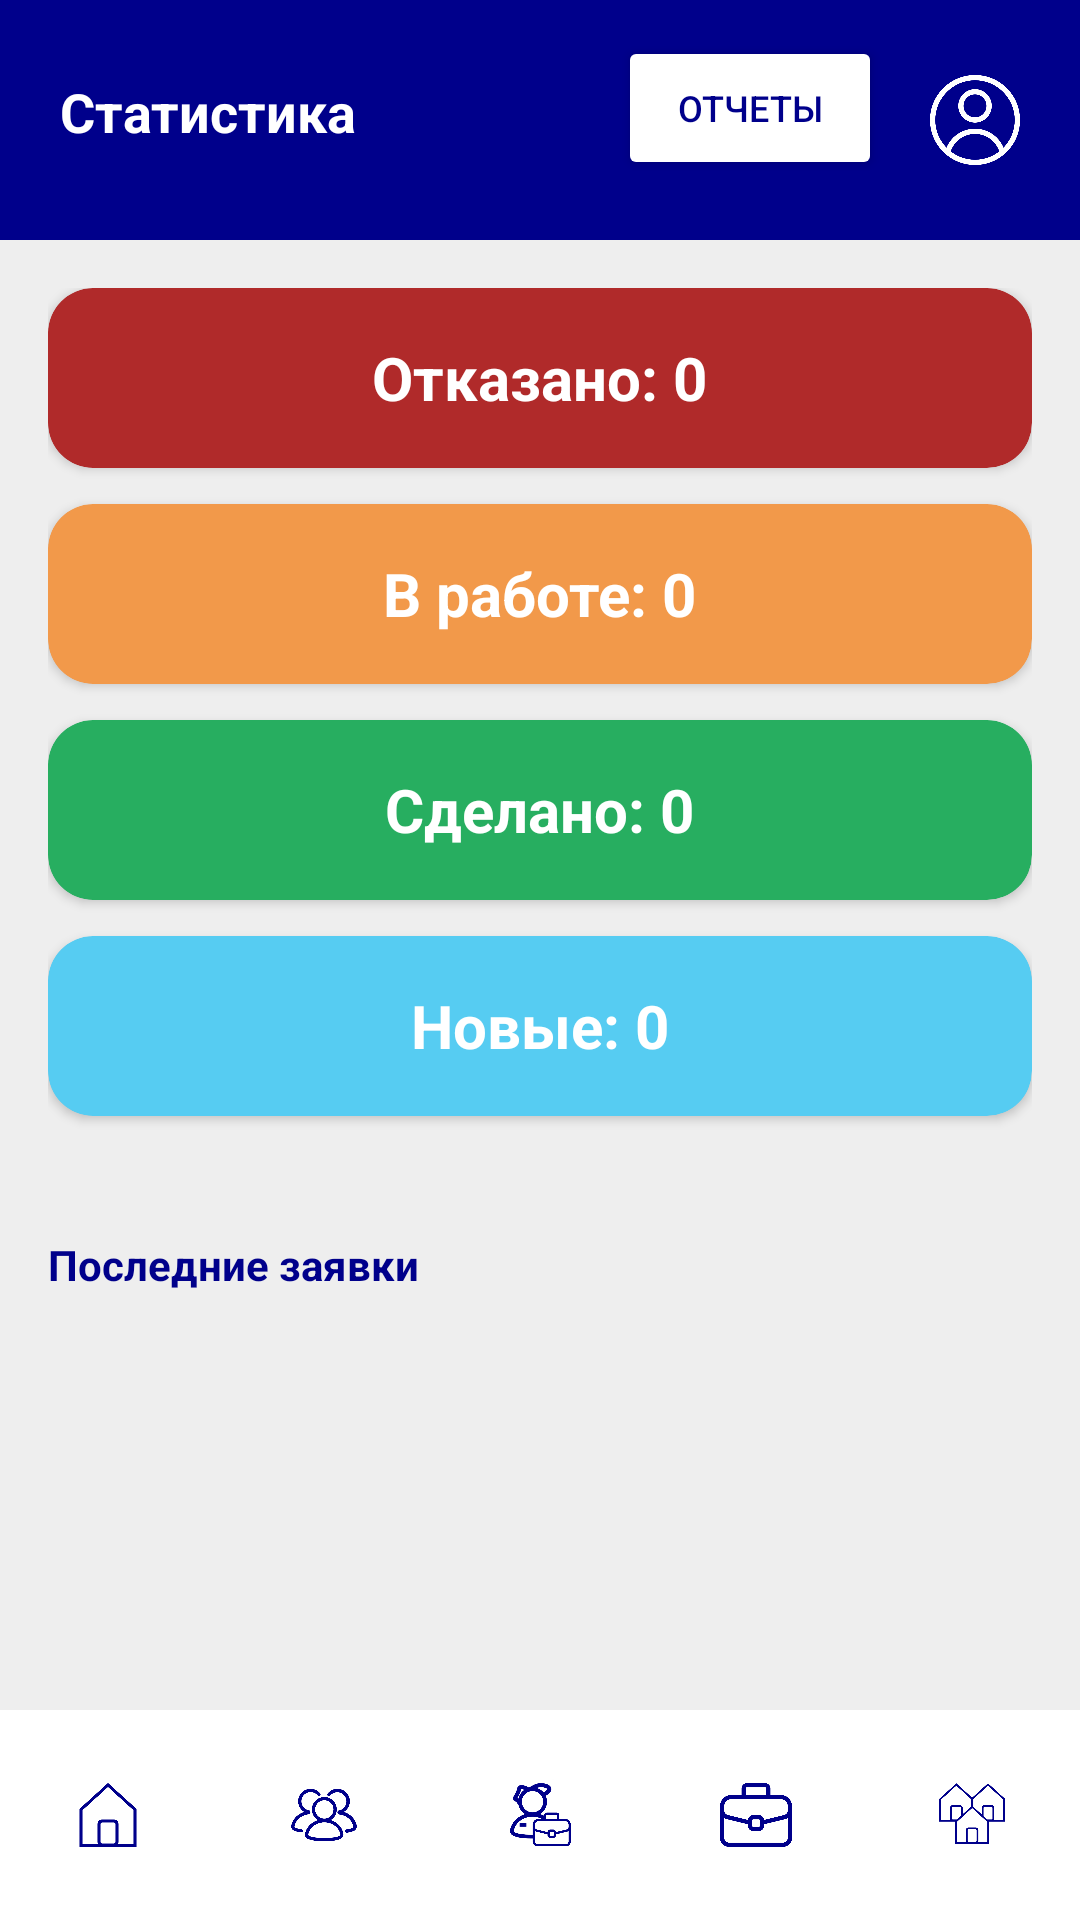

Screen size 1080x1920. Icon name, then its center in pixels as (x=x, y=y):
profile: (x=975, y=120)
